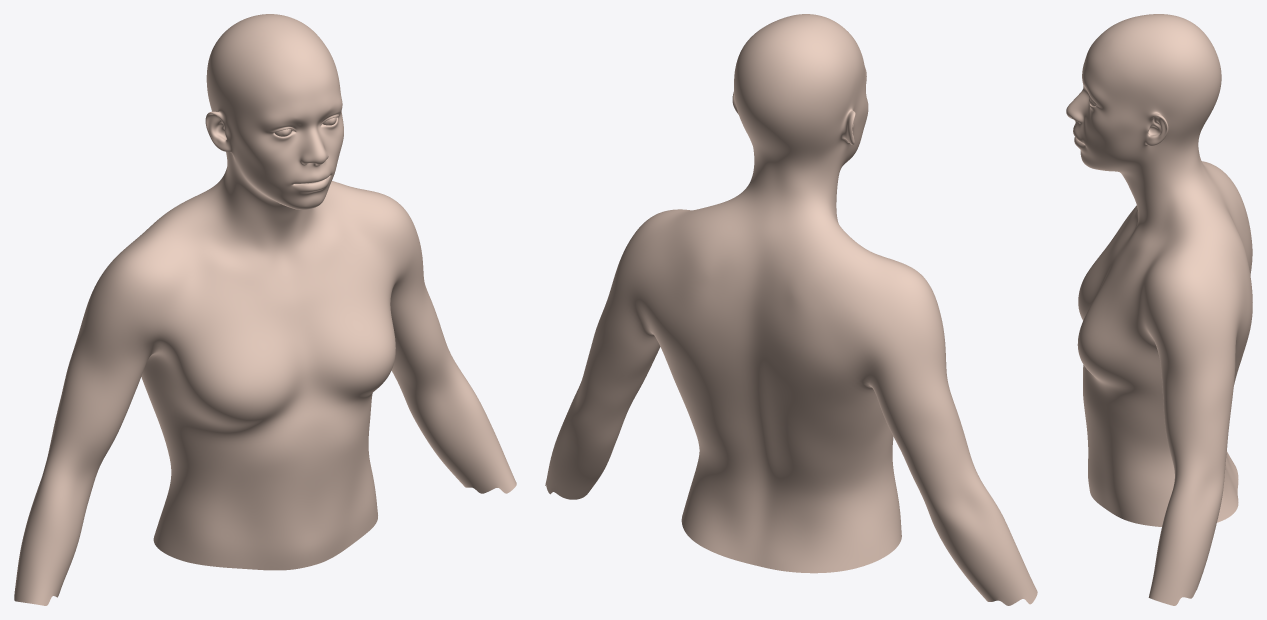
Rendered from _blend.glb.
3 renders of one model, left to right at view 1: azimuth 30°, elevation 25°; view 2: azimuth 150°, elevation 25°; view 3: azimuth 270°, elevation 25°, orthographic. The views are drawn at different scales.
Parts seen in each view (by area): view 1: neutral_body; view 2: neutral_body; view 3: neutral_body.
Part boxes in pixels (x1=…): neutral_body: x1=14, y1=14, x2=516, y2=605; neutral_body: x1=545, y1=14, x2=1037, y2=605; neutral_body: x1=1066, y1=14, x2=1252, y2=605.
Size of the model in its own units: 0.718 by 0.7278 by 0.2581.
